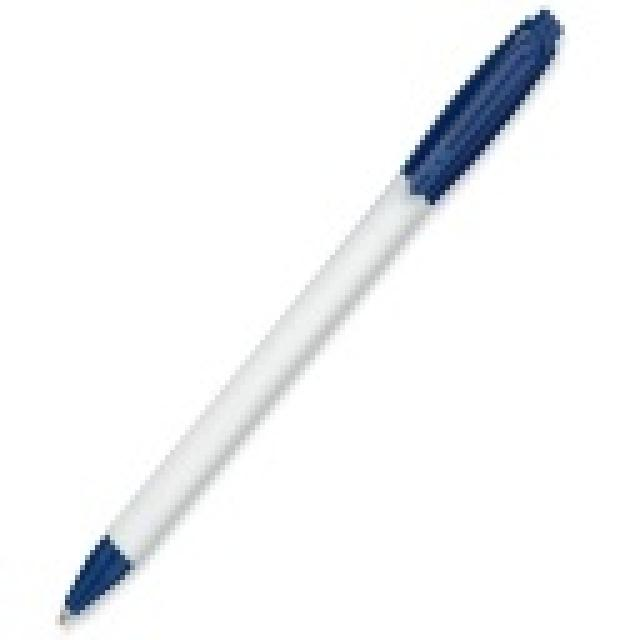pen: (48, 9, 570, 630)
